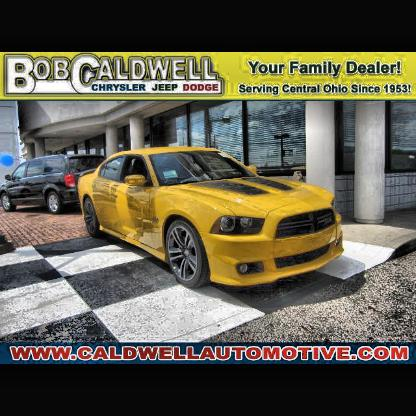Dodge Charger Sedan 2012: (76, 145, 348, 291)
